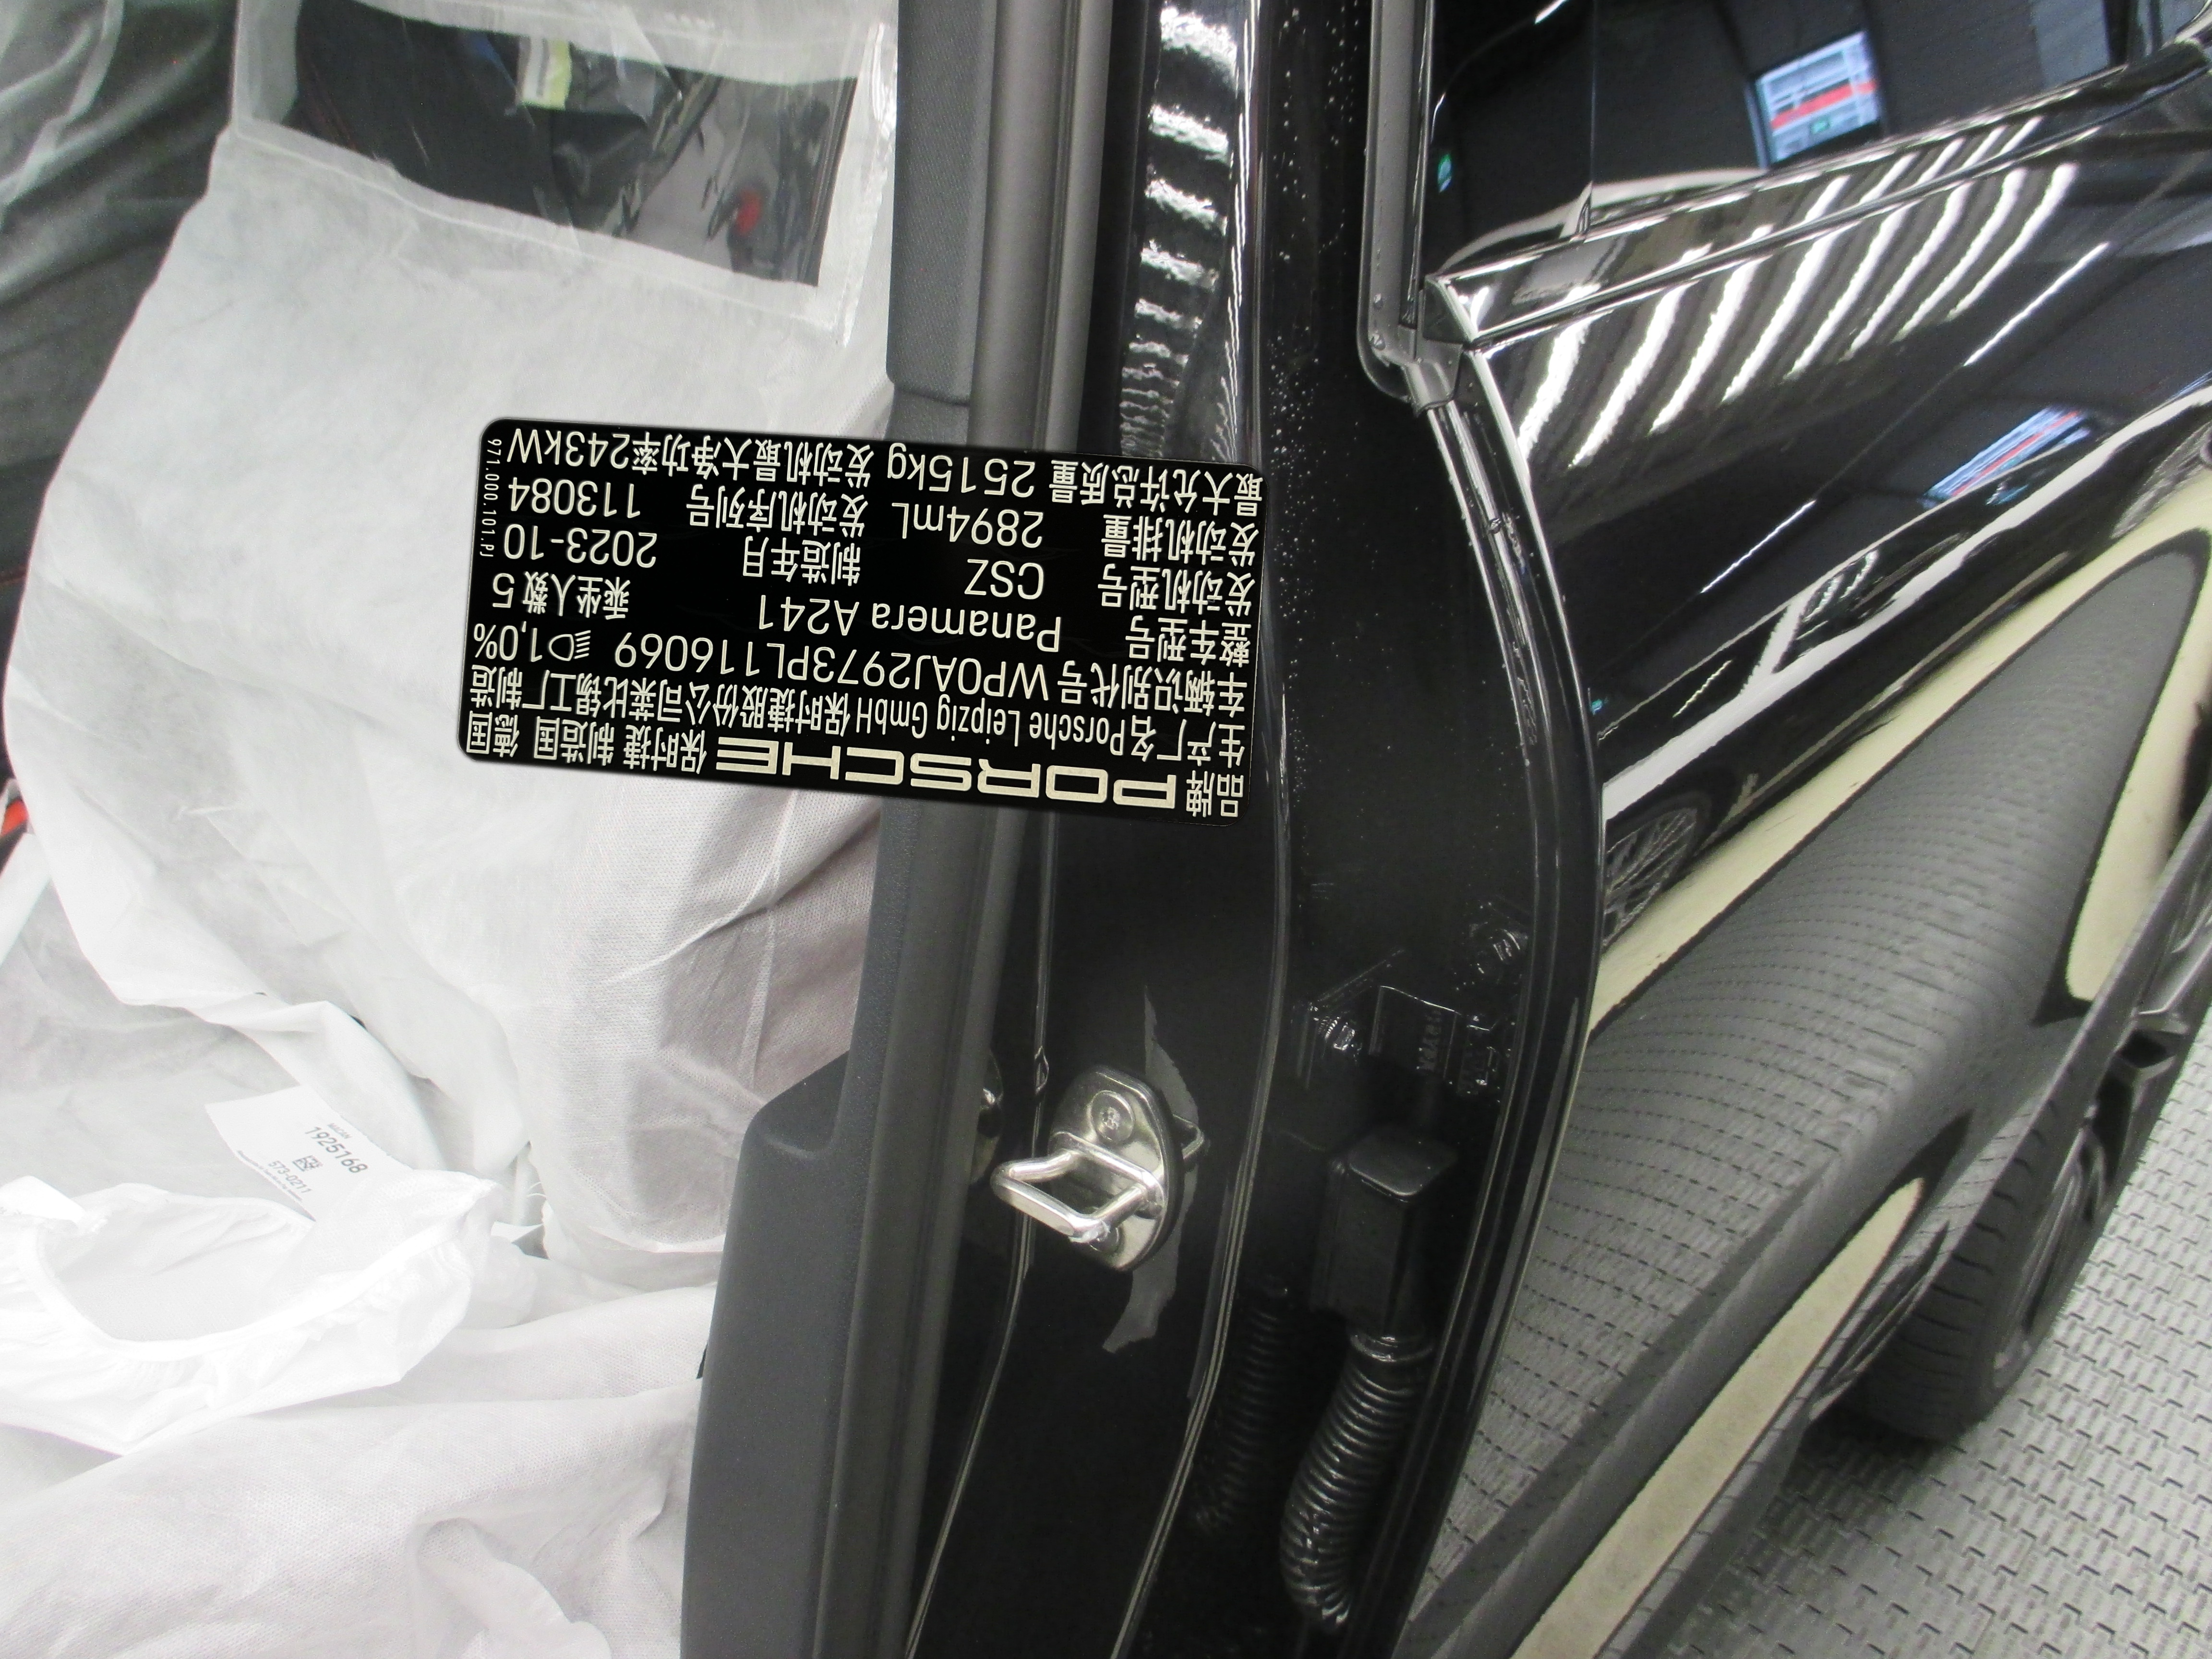Typlabel-China: (458, 418, 1268, 826)
